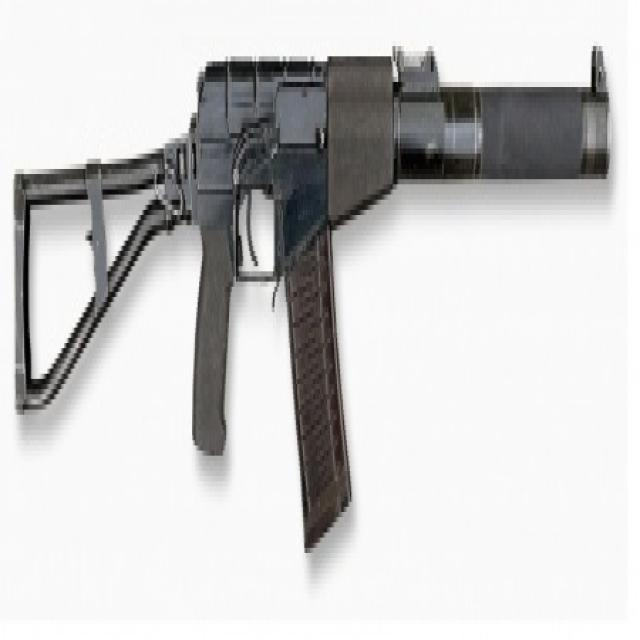rifle: (12, 42, 615, 557)
